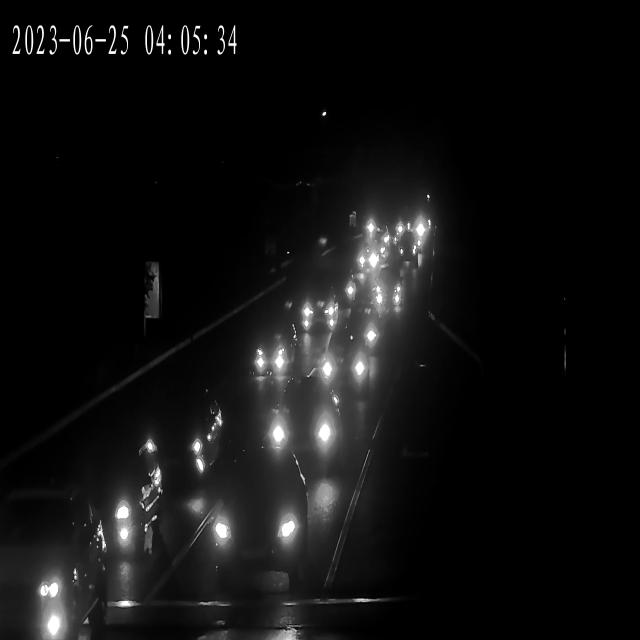Car: (57, 445, 172, 580), (196, 463, 311, 595), (0, 489, 105, 627), (116, 388, 232, 492), (260, 384, 346, 468), (315, 343, 379, 397), (252, 331, 302, 379), (297, 288, 345, 332), (294, 294, 341, 336), (342, 315, 383, 353), (369, 276, 403, 310), (354, 247, 384, 276)
